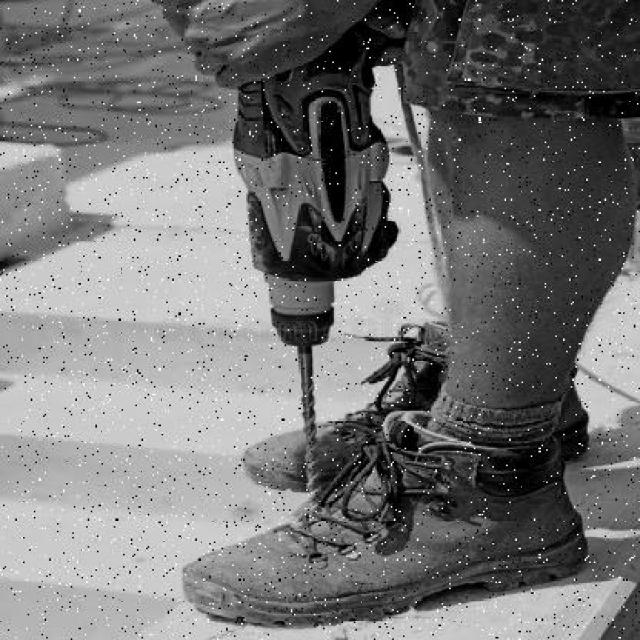shoes: (205, 429, 577, 620), (240, 348, 591, 494)
